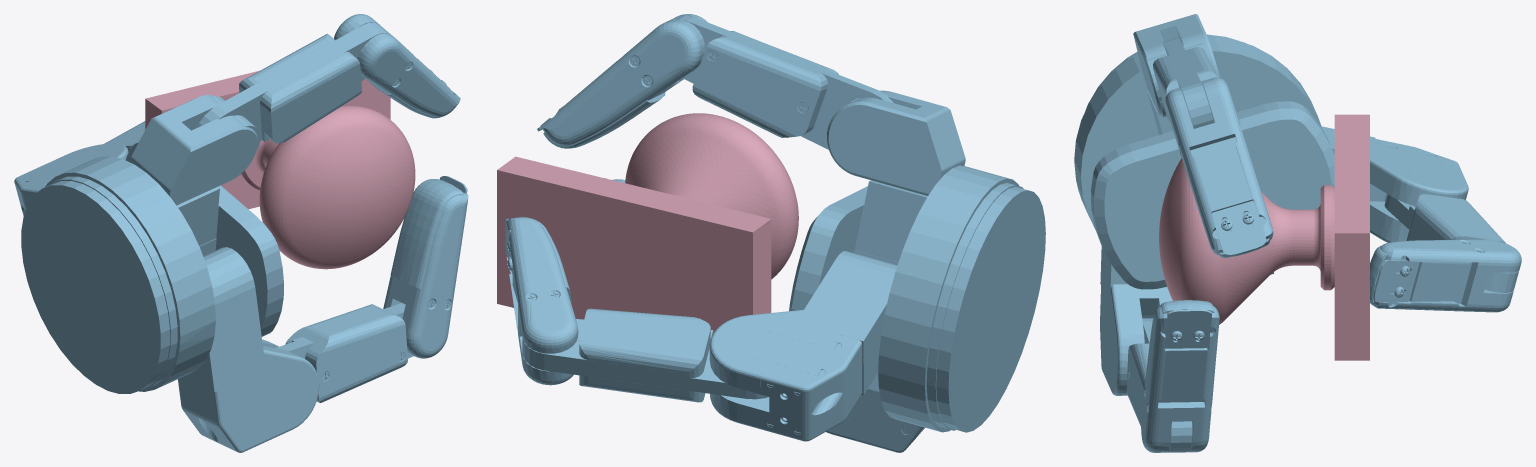
The picture shows the model from 3 angles, left to right: view 1: azimuth 30°, elevation 25°; view 2: azimuth 150°, elevation 25°; view 3: azimuth 270°, elevation 25°; orthographic projection. The views are drawn at different scales.
Parts seen in each view (by area): view 1: world; view 2: world; view 3: world.
Boxes of the visible parts, x1=… form: world: x1=14, y1=14, x2=468, y2=452; world: x1=497, y1=14, x2=1045, y2=452; world: x1=1074, y1=14, x2=1521, y2=452.
Size of the model in its own units: 0.1756 by 0.15 by 0.1592.
